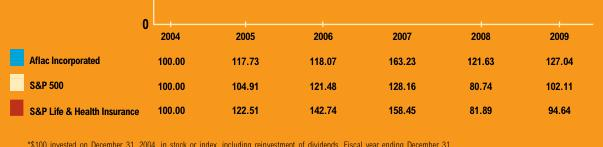table: (28, 29, 572, 115)
table column: (28, 29, 147, 115), (361, 29, 440, 115), (440, 29, 519, 115), (283, 29, 361, 115), (207, 29, 283, 115), (147, 29, 207, 115), (519, 29, 572, 115)
table column header: (28, 29, 572, 47)
table row: (28, 47, 572, 72), (28, 72, 572, 97), (28, 29, 572, 47), (28, 97, 572, 115)
